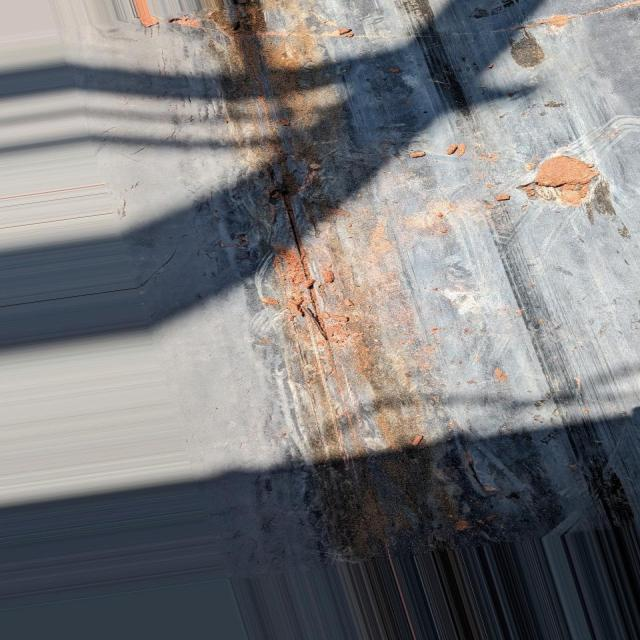impact damage: (214, 28, 475, 554)
